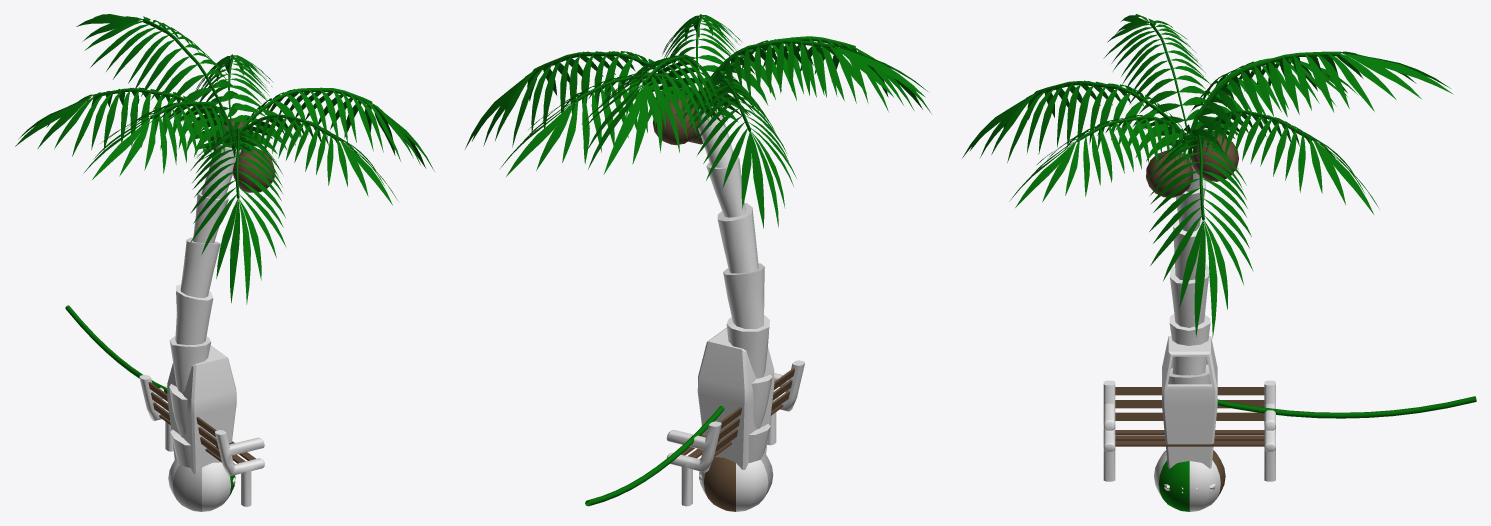
The model's file is Evironment Props.fbx.
3 views of the same model, side by side, from view 1: azimuth 30°, elevation 25°; view 2: azimuth 150°, elevation 25°; view 3: azimuth 270°, elevation 25° (orthographic). The views are drawn at different scales.
Visible parts, largest first — view 1: pSphere3, pCube1, pCube10, pSphere4, pCylinder4; view 2: pSphere3, pCube1, pCube10, pSphere4, pCylinder4; view 3: pSphere3, pCube10, pCube1, pSphere4, pCylinder4.
Boxes of the visible parts, x1,y1,x2,y2 form: pSphere3: (15, 14, 434, 467); pCube1: (167, 345, 236, 473); pCube10: (139, 374, 264, 506); pSphere4: (168, 458, 235, 511); pCylinder4: (65, 305, 167, 393); pSphere3: (465, 14, 931, 462); pCube1: (697, 327, 774, 469); pCube10: (666, 360, 804, 506); pSphere4: (699, 453, 773, 511); pCylinder4: (585, 406, 724, 506); pSphere3: (962, 14, 1453, 384); pCube10: (1103, 380, 1275, 481); pCube1: (1162, 336, 1217, 468); pSphere4: (1154, 450, 1225, 511); pCylinder4: (1186, 375, 1476, 418).
Size of the model in its own units: 8.48 by 9.24 by 9.29.
